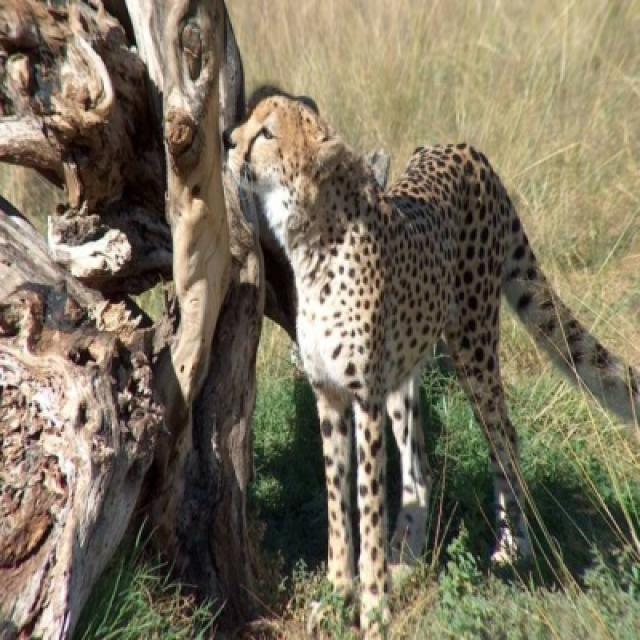Cheetah: (226, 94, 638, 597)
